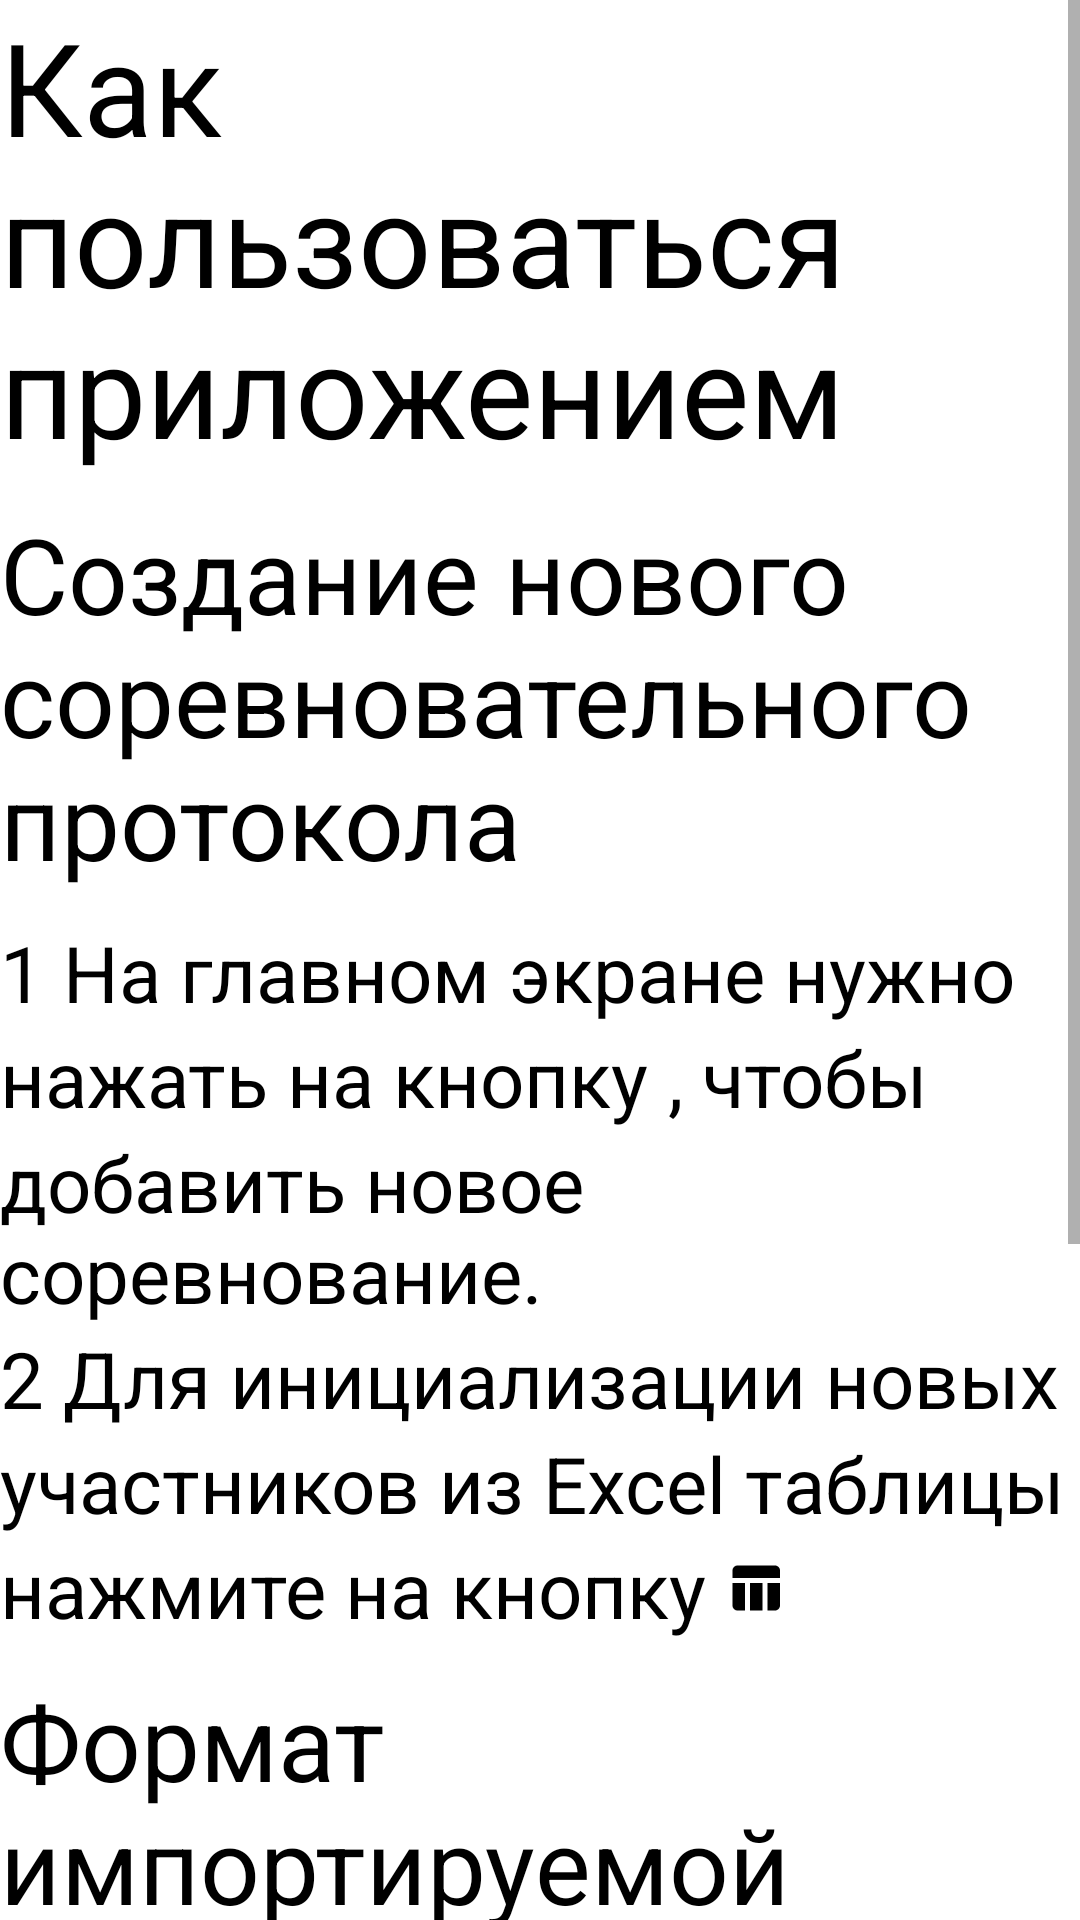

Screen size 1080px x 1920px. Icon name, then its box in pixels as (x1, y1, x2, y2):
table: (732, 1565, 780, 1611)
